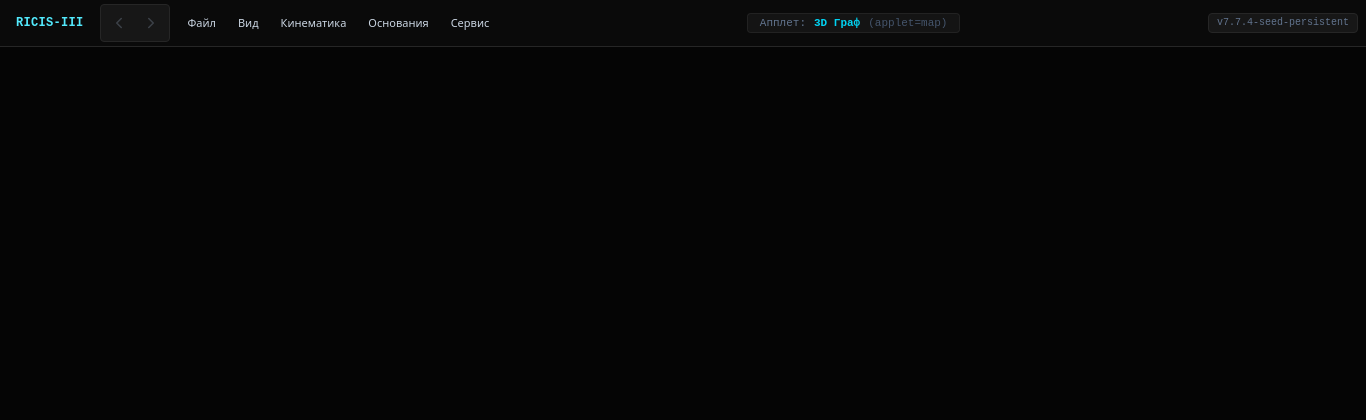
Test: CompactCommandMenuBar › switches open menus on pointer hover without requiring another click
This screenshot has width=1366, height=420.
Click the menu item with class "menubar-command" showing "Файл" at x=202, y=23, box [178,8,226,38]
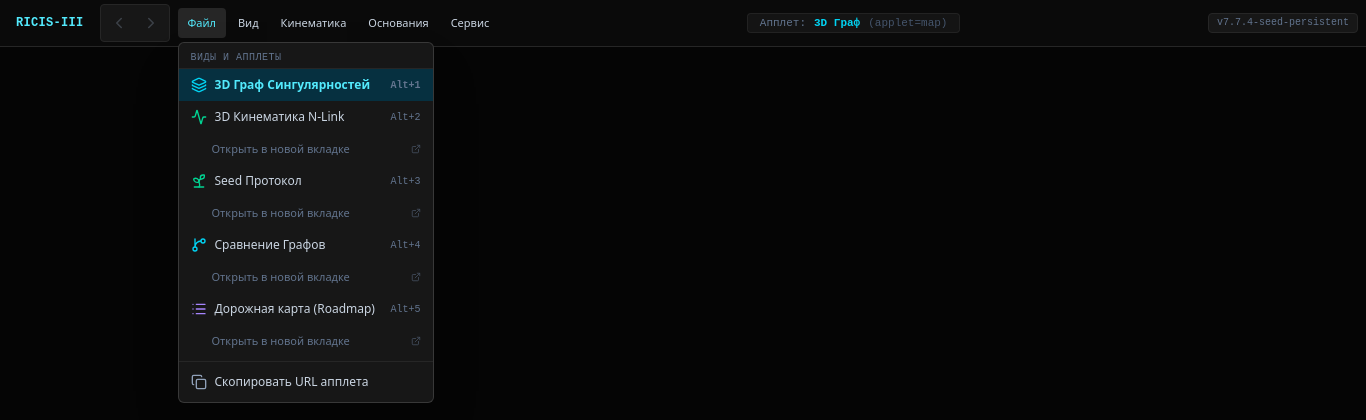
Hover over the menu item with class "menubar-command" showing "Вид" at x=248, y=23, box [228,8,269,38]
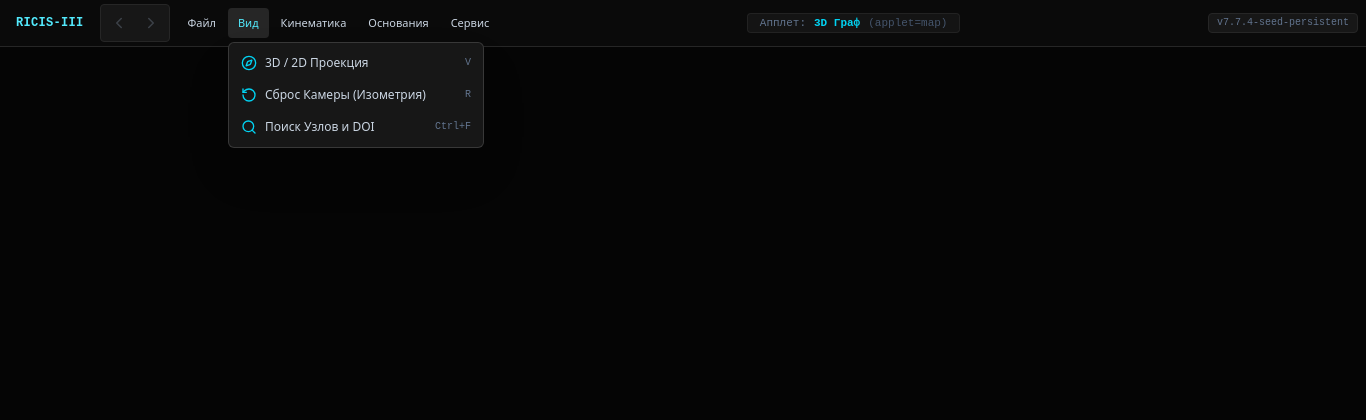
Check: the number of menus is 1, box [228,42,484,148]
Check: the menu item with class "menubar-command" is collapsed, box [178,8,226,38]
Check: the menu item with class "menubar-command" is expanded, box [228,8,269,38]
